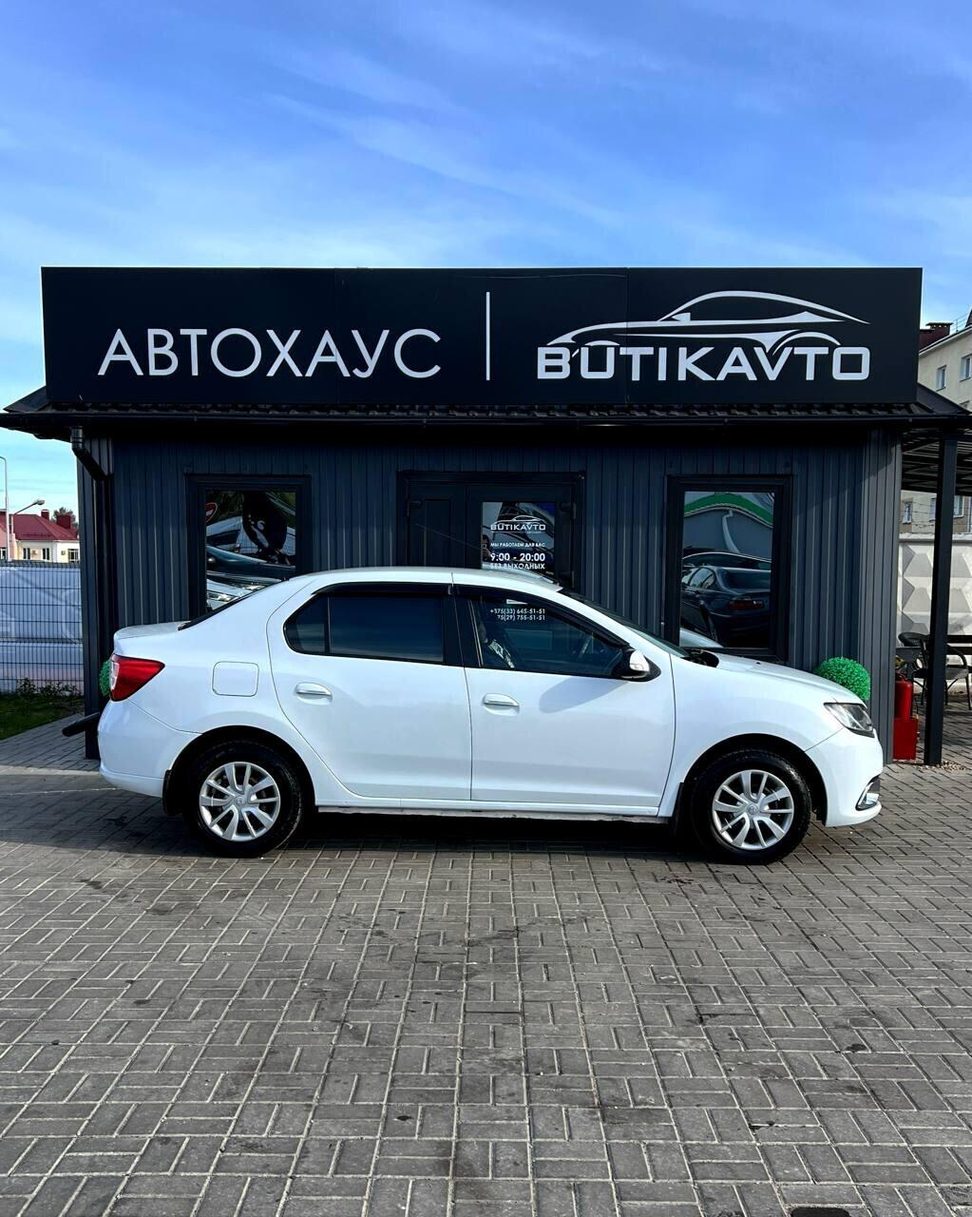Logan_2013-2018: (98, 561, 892, 886)
